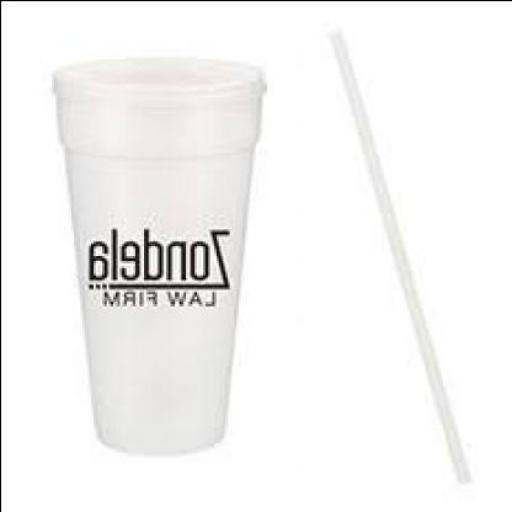paper: (53, 55, 266, 452)
